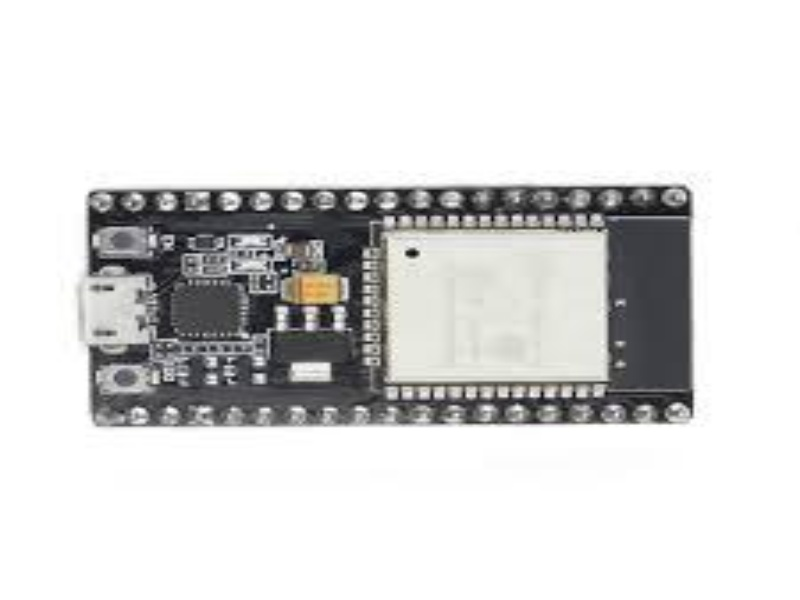esp32: (77, 168, 701, 444)
